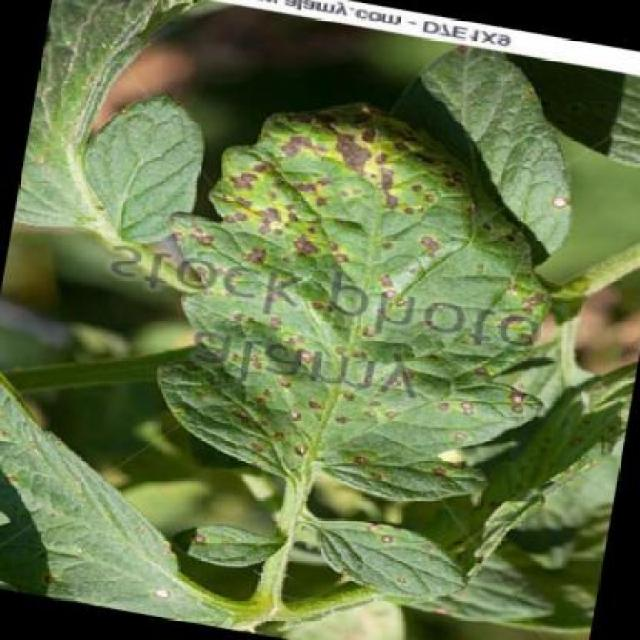Septoria leaf spot: (131, 69, 614, 532), (290, 494, 487, 620), (149, 501, 295, 586)
